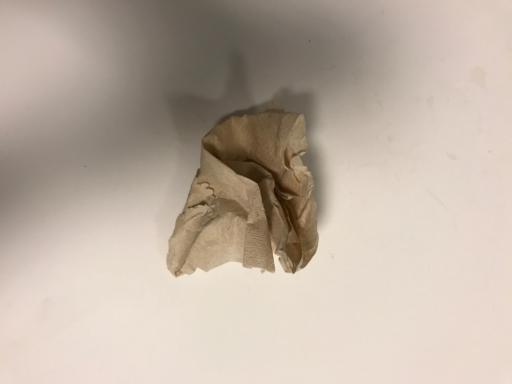trash: (165, 109, 319, 278)
